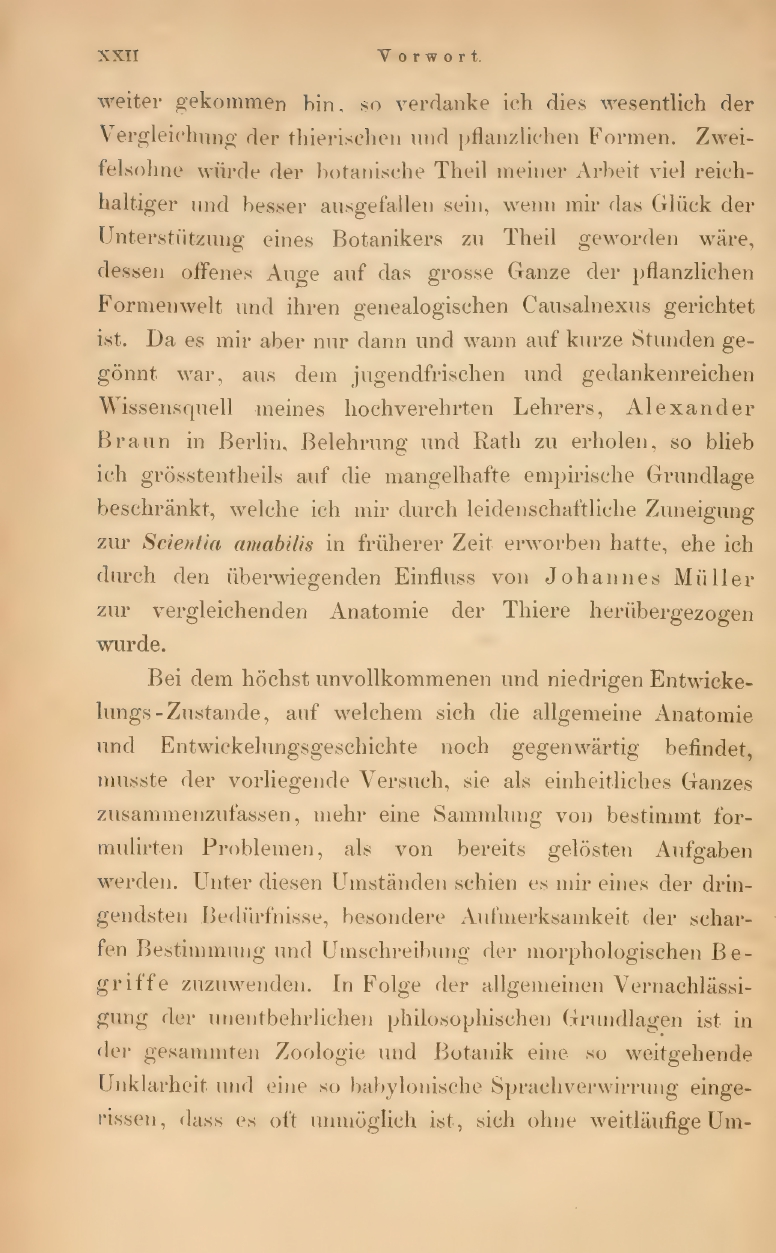MainZone: (76, 84, 766, 1149)
NumberingZone_page: (81, 35, 152, 73)
RunningTitleZone: (359, 40, 491, 71)
